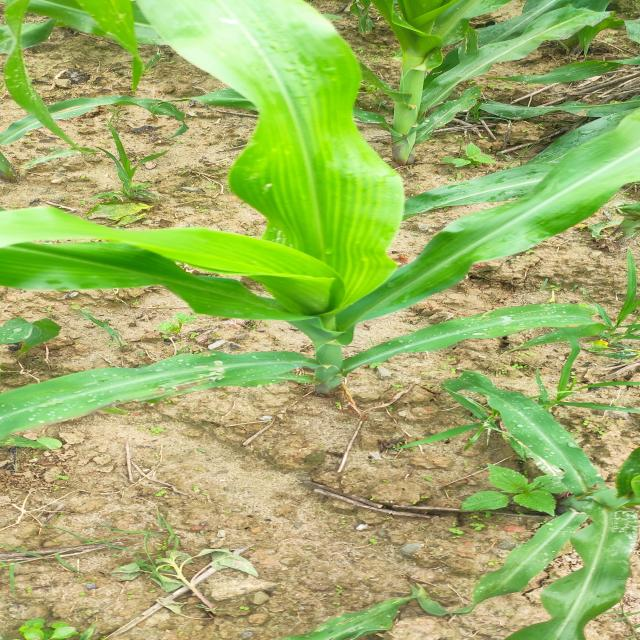maize: (0, 0, 616, 419), (458, 375, 640, 640), (0, 0, 170, 196), (338, 0, 484, 160)
weed: (102, 542, 264, 618), (425, 450, 592, 522), (83, 137, 177, 193), (0, 597, 94, 640), (7, 304, 82, 354), (448, 138, 514, 164)
